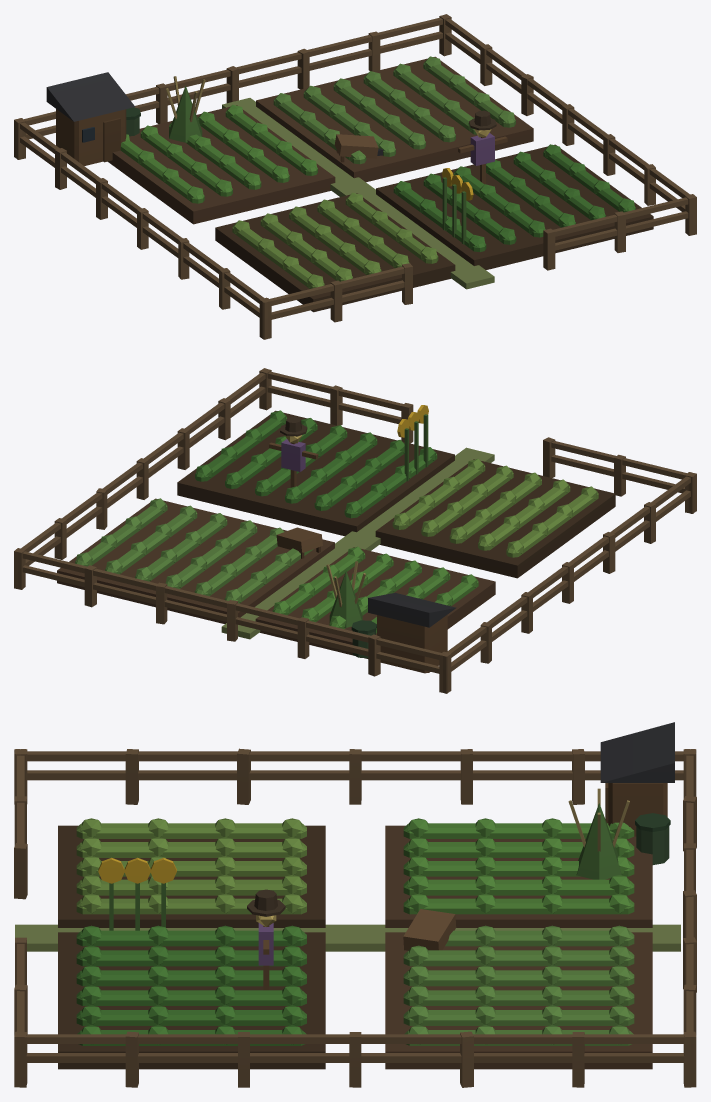
Rendered from allotment.glb.
3 renders of one model, top to bottom at view 1: azimuth 30°, elevation 25°; view 2: azimuth 150°, elevation 25°; view 3: azimuth 270°, elevation 25°, orthographic. The views are drawn at different scales.
Parts seen in each view (by area): view 1: allotment_model; view 2: allotment_model; view 3: allotment_model.
Part boxes in pixels (x1,y1,x2,y2): allotment_model: [14, 14, 696, 339]; allotment_model: [14, 368, 696, 693]; allotment_model: [14, 722, 696, 1087].
Size of the model in its own units: 0.9187 by 0.167 by 0.9187.
